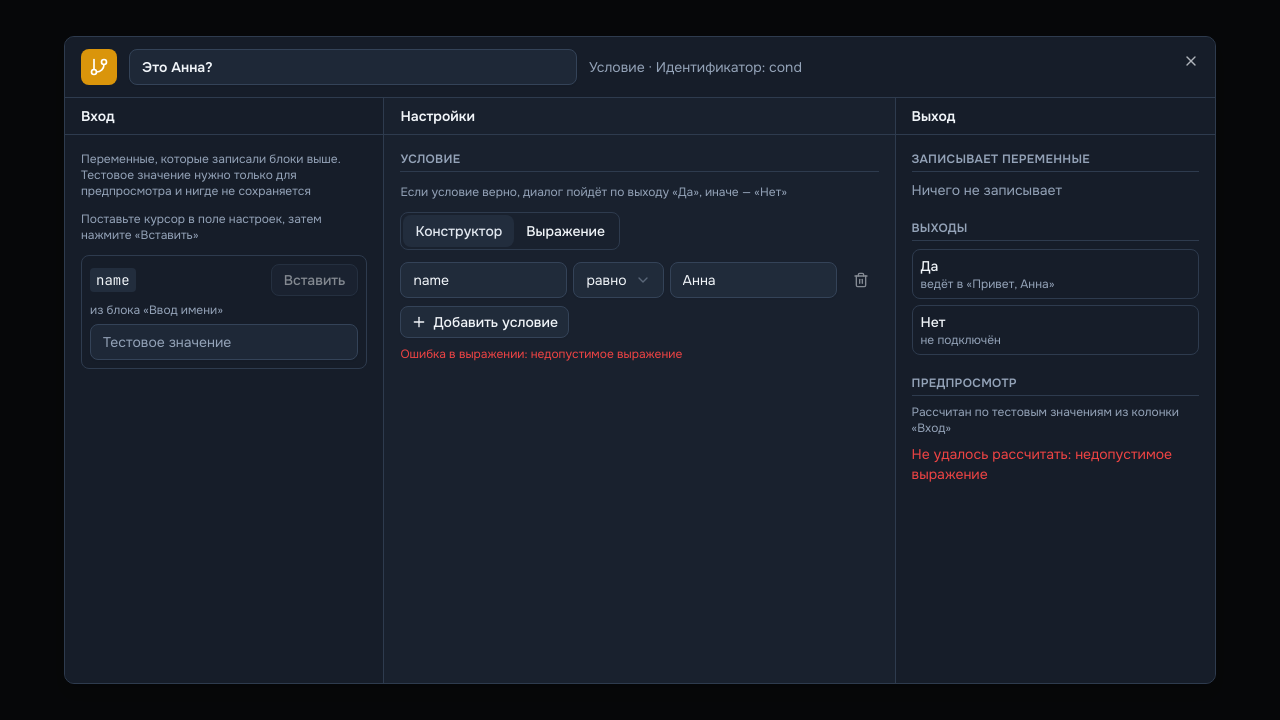
Test case: BlockDialog › конструктор условий › показывает ошибку выражения, собранного конструктором
Replace the text in the field named "Переменная 1" with "a b" at (484, 280), box [400,262,567,298]
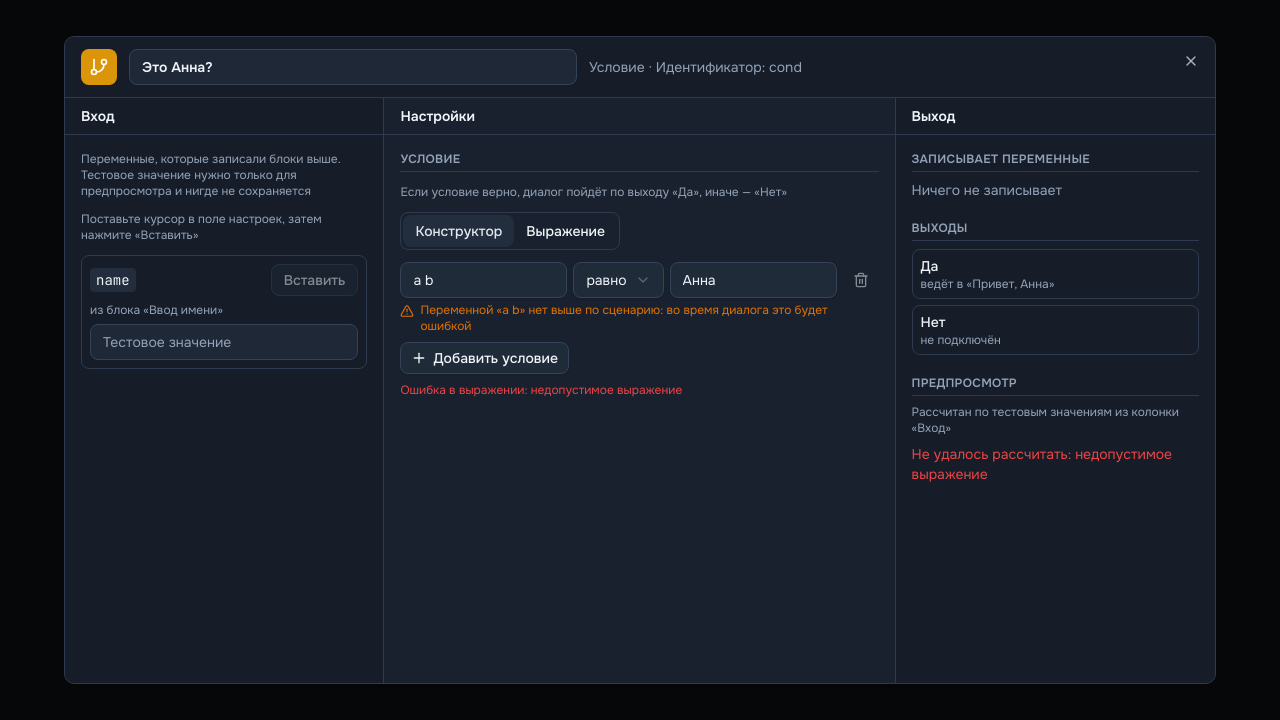
Expected: the text "Ошибка в выражении: недопустимое выражение" is shown, [400,382,682,398]
Clear the field named "Переменная 1" at (484, 280), box [400,262,567,298]
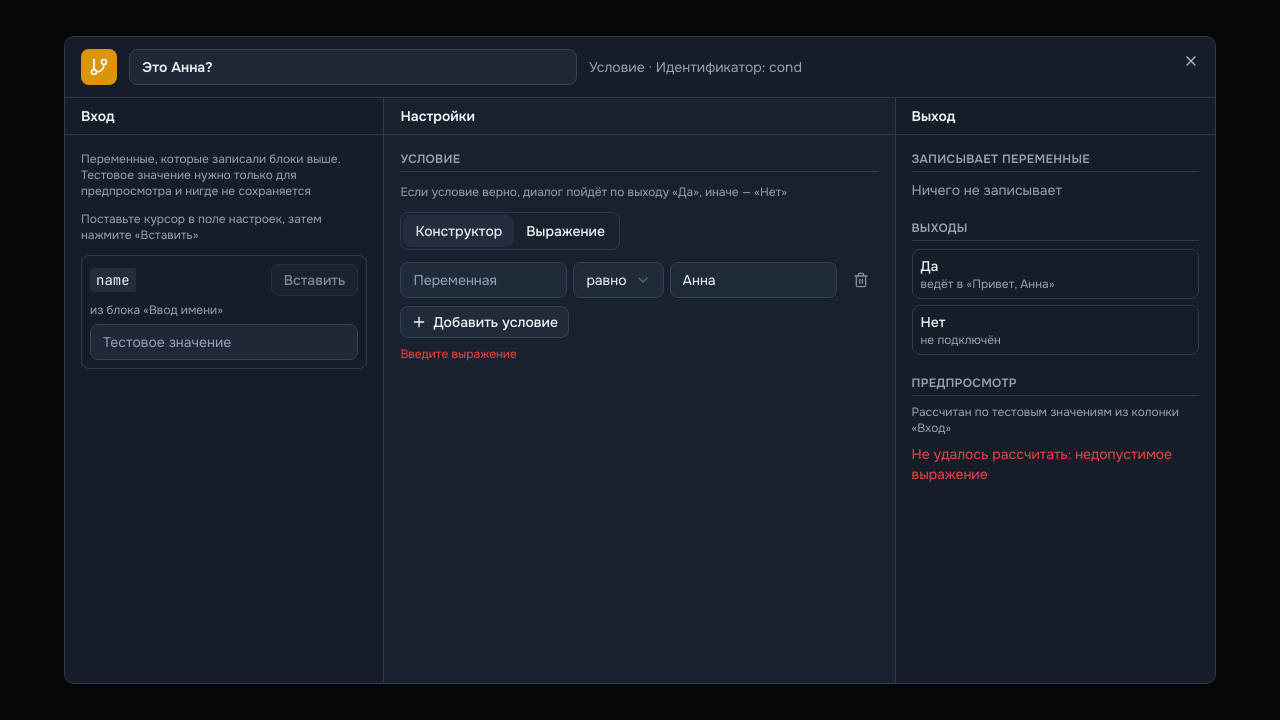
Expected: the text "Введите выражение" is shown, [400,346,517,362]
